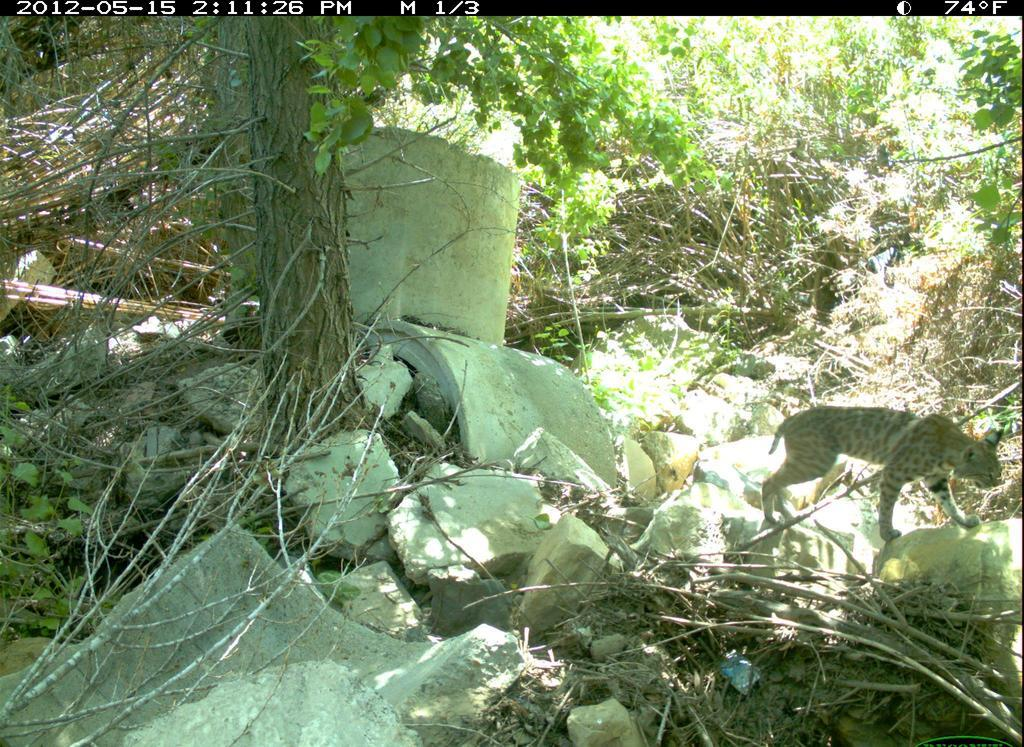bobcat: (747, 391, 1013, 560)
